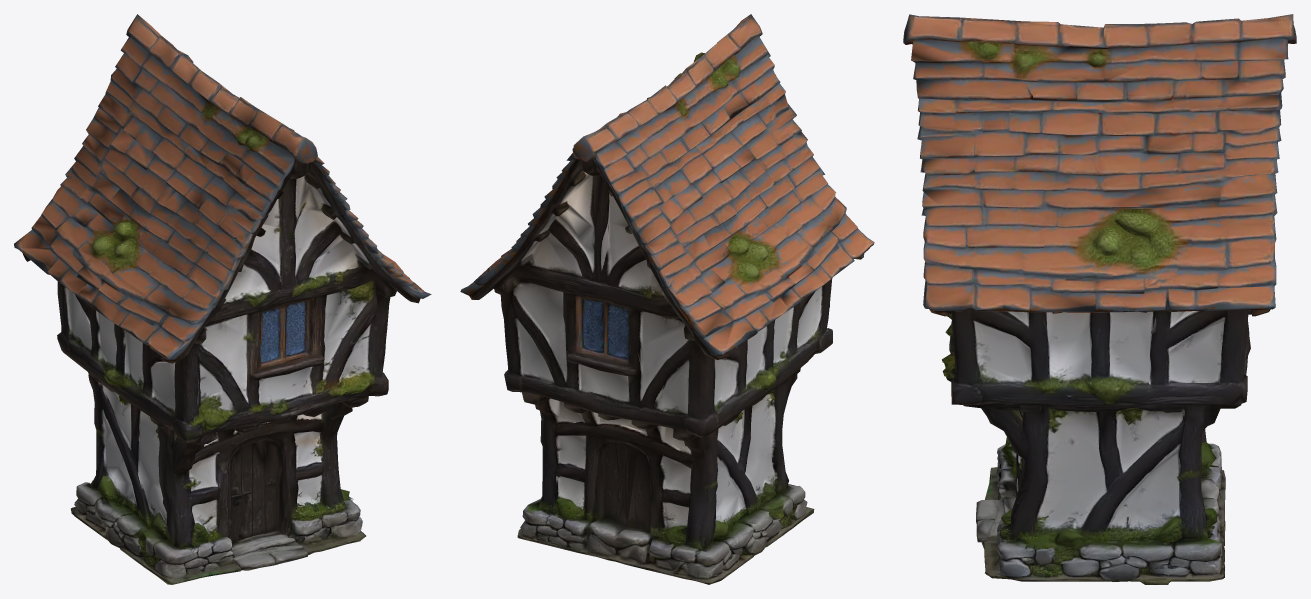
File: town_house_timber_jettied.glb
3 renders of one model, left to right at view 1: azimuth 30°, elevation 25°; view 2: azimuth 150°, elevation 25°; view 3: azimuth 270°, elevation 25°, orthographic. The views are drawn at different scales.
Parts seen in each view (by area): view 1: tripo_node_9c35e01b-f98e-4e3e-8dab-4a3397df7b56; view 2: tripo_node_9c35e01b-f98e-4e3e-8dab-4a3397df7b56; view 3: tripo_node_9c35e01b-f98e-4e3e-8dab-4a3397df7b56.
Boxes of the visible parts, bbox=[...] form: tripo_node_9c35e01b-f98e-4e3e-8dab-4a3397df7b56: bbox=[14, 14, 431, 584]; tripo_node_9c35e01b-f98e-4e3e-8dab-4a3397df7b56: bbox=[460, 14, 874, 584]; tripo_node_9c35e01b-f98e-4e3e-8dab-4a3397df7b56: bbox=[903, 14, 1296, 584].
Size of the model in its own units: 6.26 by 10 by 6.97.
Materials: 1 (1 with a texture image).
